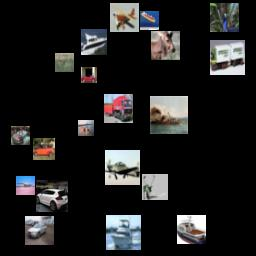airplane: (105, 150, 140, 185), (110, 3, 139, 32), (16, 176, 35, 195)
automobile: (36, 180, 68, 212), (25, 216, 54, 245), (33, 138, 55, 160), (11, 126, 30, 145), (81, 67, 97, 83)
bird: (210, 3, 239, 32)
deer: (151, 31, 180, 60), (142, 174, 168, 200), (55, 53, 74, 72)
ship: (150, 96, 188, 134), (106, 215, 141, 250), (177, 215, 206, 244), (81, 29, 107, 55), (140, 11, 159, 30), (78, 120, 94, 136)
truck: (210, 40, 245, 75), (104, 94, 133, 123)
